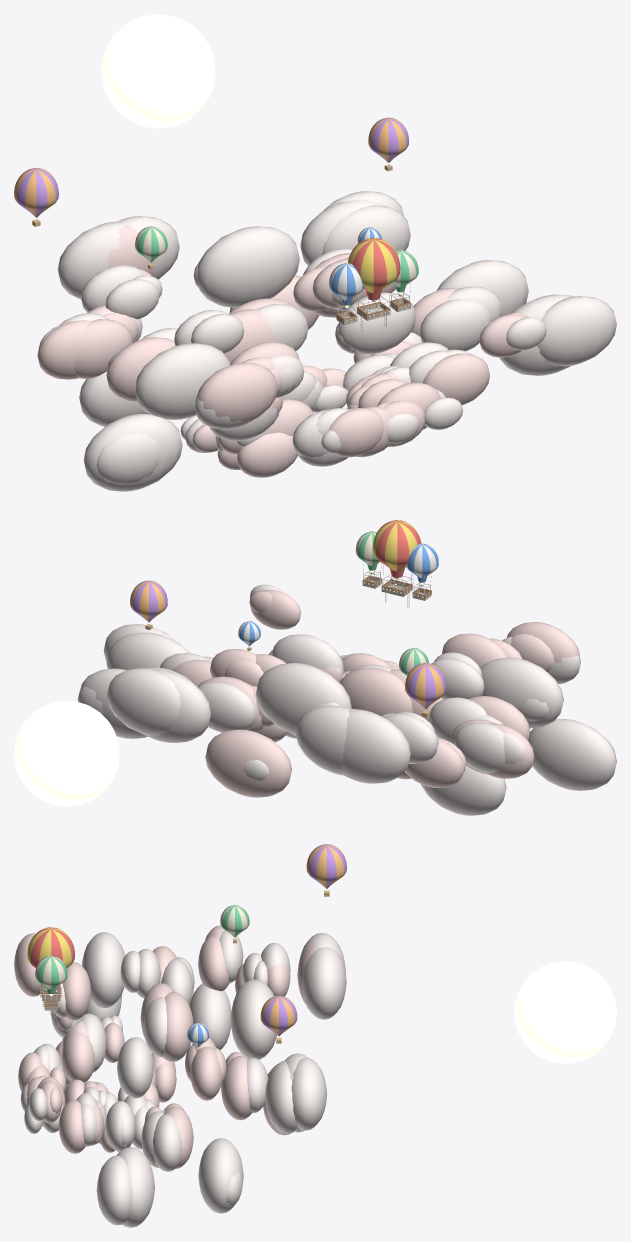
The model's file is balloon.glb.
3 renders of one model, top to bottom at view 1: azimuth 30°, elevation 25°; view 2: azimuth 150°, elevation 25°; view 3: azimuth 270°, elevation 25°, orthographic. The views are drawn at different scales.
Visible parts, largest first — view 1: clouds, sun, main_envelope, far_envelope.003, far_envelope.001, L_envelope, far_envelope; view 2: clouds, sun, main_envelope, far_envelope.003, far_envelope.001, L_envelope, R_envelope, far_envelope, far_envelope.002; view 3: clouds, sun, main_envelope, far_envelope.003, far_envelope.001, R_envelope, far_envelope.
Part boxes in pixels (x1,y1,x2,y2): clouds: (37,191,616,491); sun: (101,14,215,128); main_envelope: (348,238,400,292); far_envelope.003: (14,168,58,217); far_envelope.001: (368,117,408,162); L_envelope: (329,263,364,300); far_envelope: (135,226,167,262); clouds: (77,584,616,815); sun: (14,700,119,806); main_envelope: (372,520,421,571); far_envelope.003: (405,663,446,709); far_envelope.001: (130,580,167,622); L_envelope: (405,543,438,577); R_envelope: (355,531,380,565); far_envelope: (399,648,428,675); far_envelope.002: (238,621,260,646); clouds: (14,925,346,1227); sun: (514,961,616,1063); main_envelope: (27,927,74,968); far_envelope.003: (306,844,346,888); far_envelope.001: (260,995,297,1036); R_envelope: (35,956,67,989); far_envelope: (220,905,249,937).
Size of the model in its own units: 153 by 59.96 by 164.
